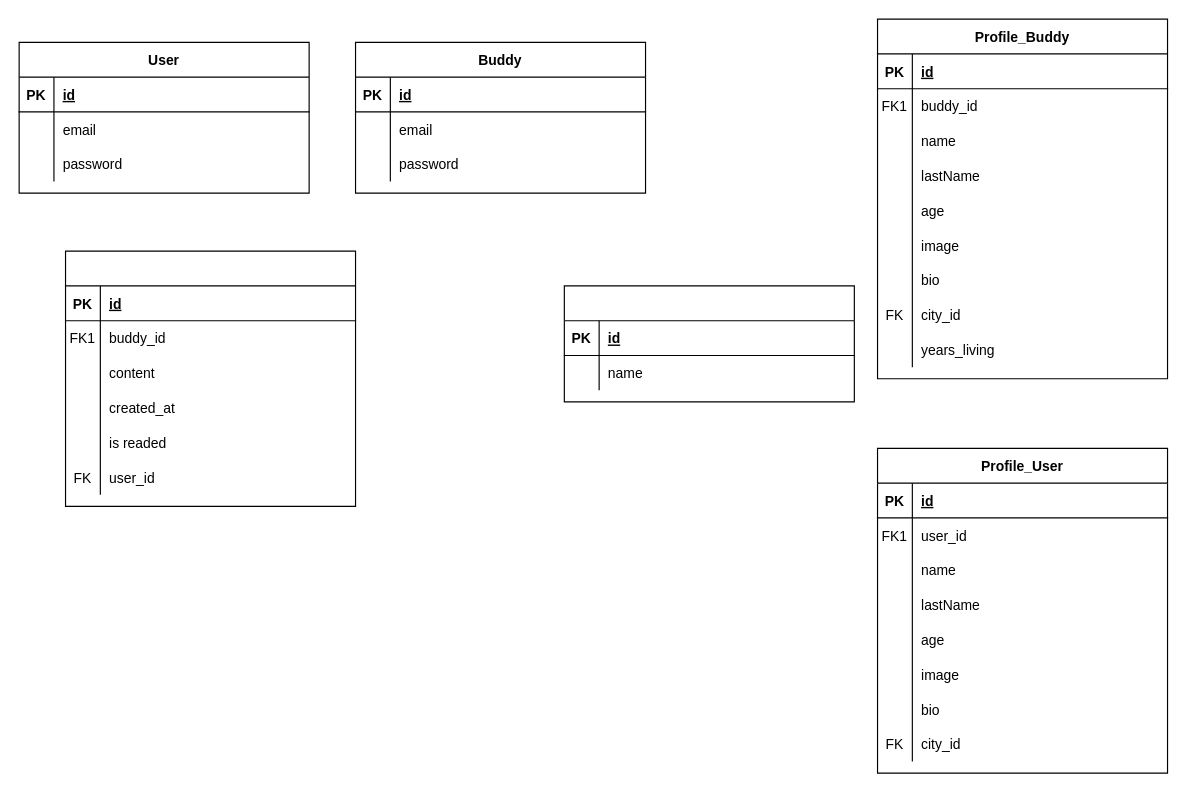
Image size: 1187x792. Some labels were removed from this diagram. The box of each missing label's shape, as (x1, y1, x2, y2) in pixels:
City: (563, 285, 854, 402)
Message: (64, 250, 356, 506)
